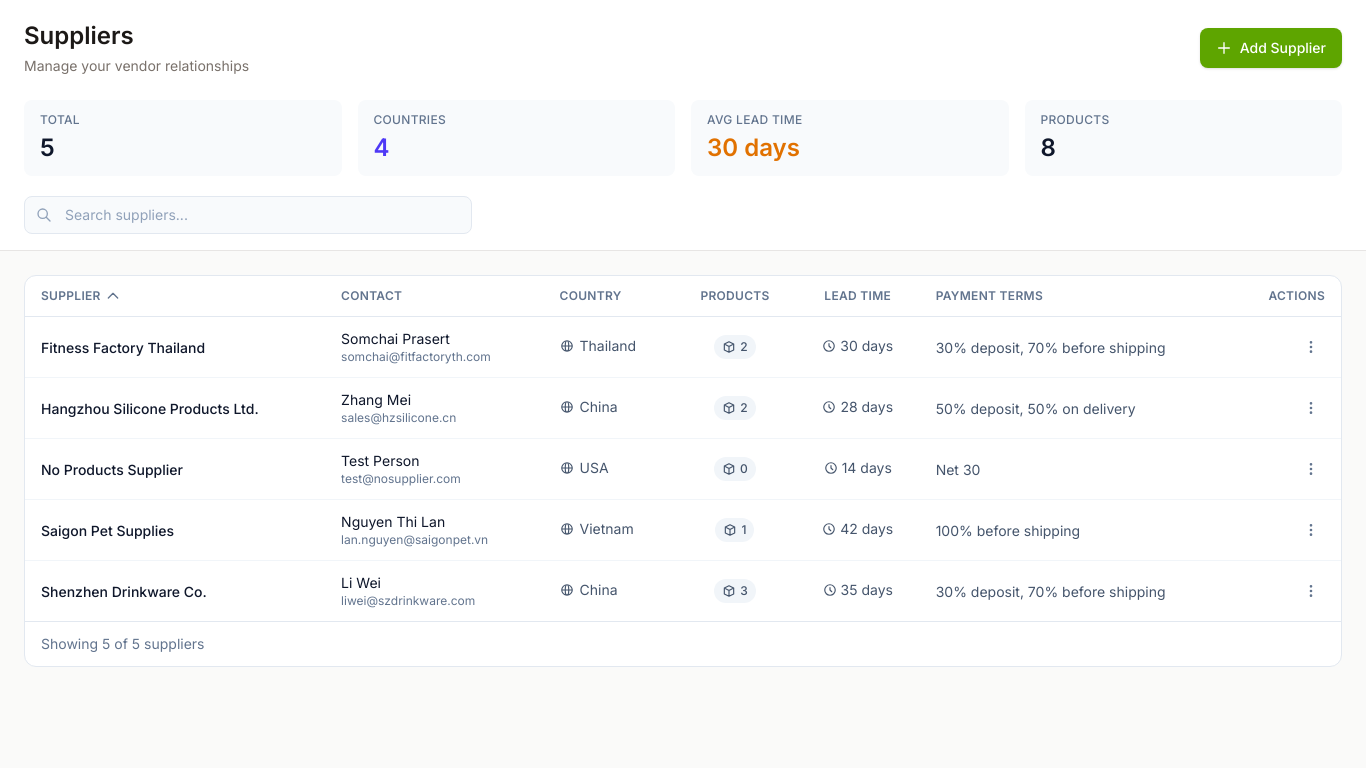
Suppliers - Search Suppliers › filters suppliers by contact name
In the field with placeholder "Search suppliers...": x=248, y=215 [24,196,472,234], type "Li Wei"
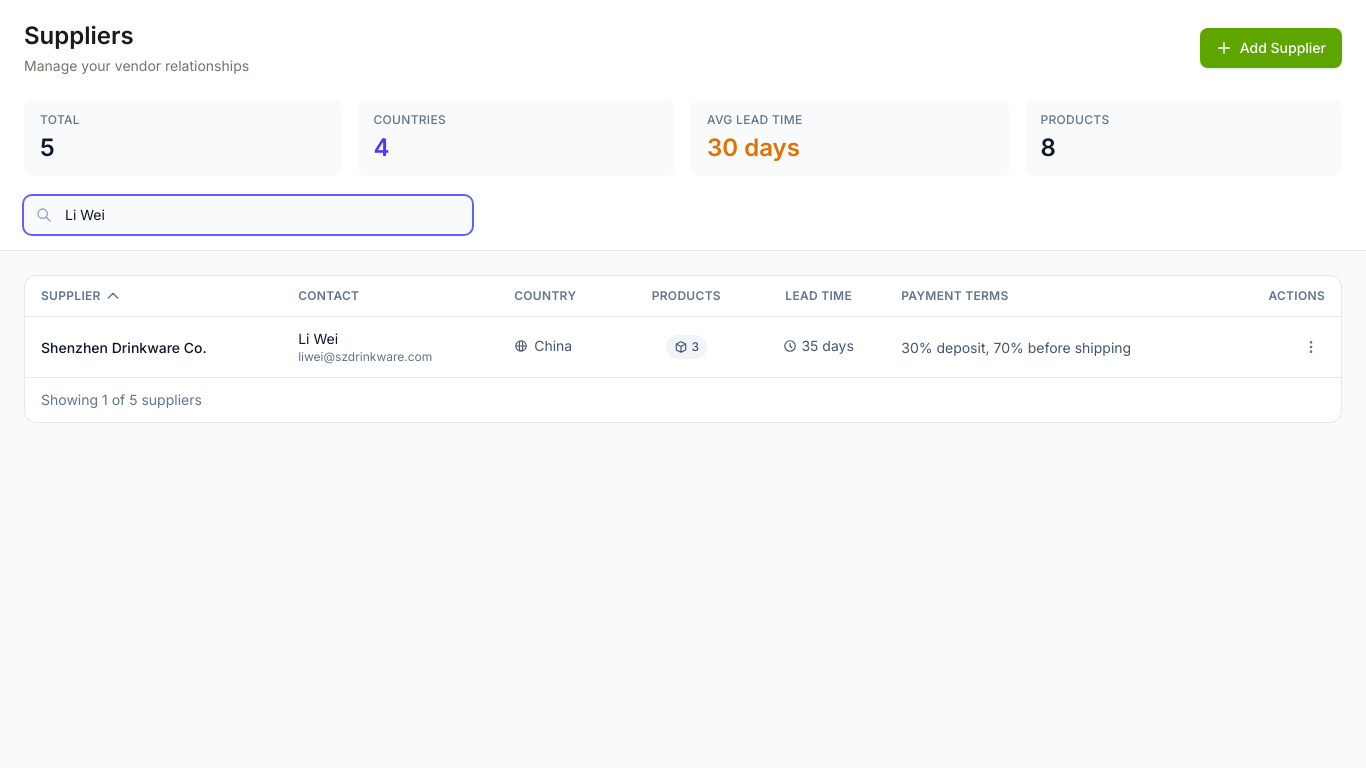
Expected: the button "Shenzhen Drinkware Co." is shown, [41,338,207,358]
Expected: the button "Hangzhou Silicone Products Ltd." is gone
